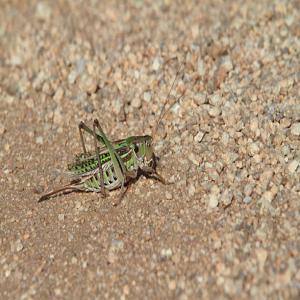locust: (48, 100, 171, 206)
